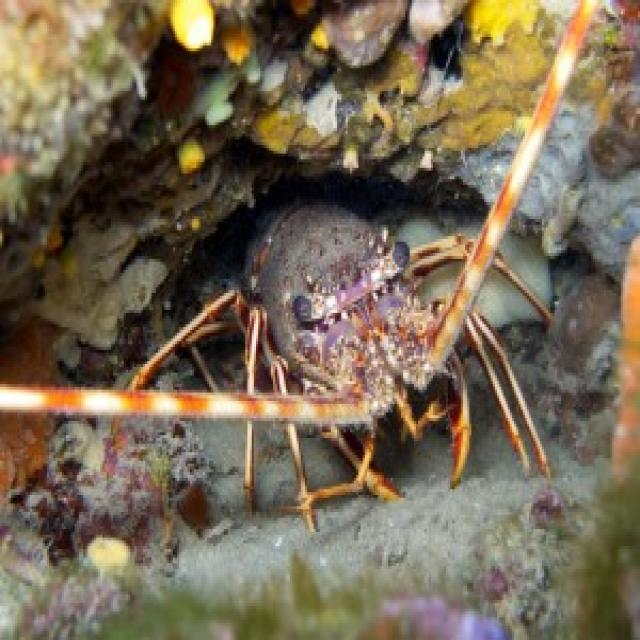lobsters: (124, 56, 610, 546)
